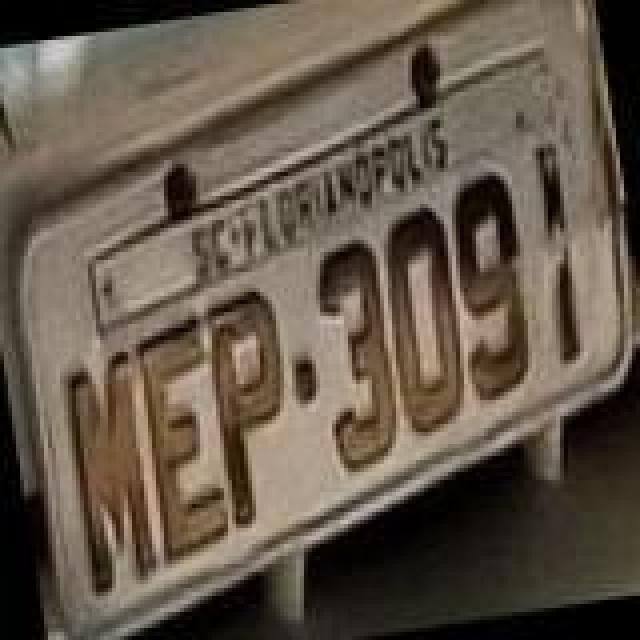1: (520, 136, 592, 368)
3: (302, 234, 410, 478)
9: (434, 170, 542, 406)
E: (130, 312, 238, 568)
M: (56, 344, 168, 600)
O: (370, 198, 478, 442)
P: (198, 280, 314, 536)
